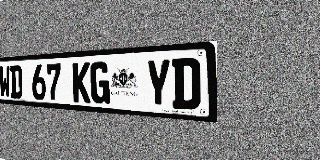6: (32, 64, 46, 100)
7: (46, 64, 61, 101)
D: (172, 57, 201, 110), (10, 65, 23, 99)
G: (90, 61, 110, 104)
K: (72, 62, 90, 103)
W: (0, 66, 11, 98)
Y: (146, 59, 171, 108)
